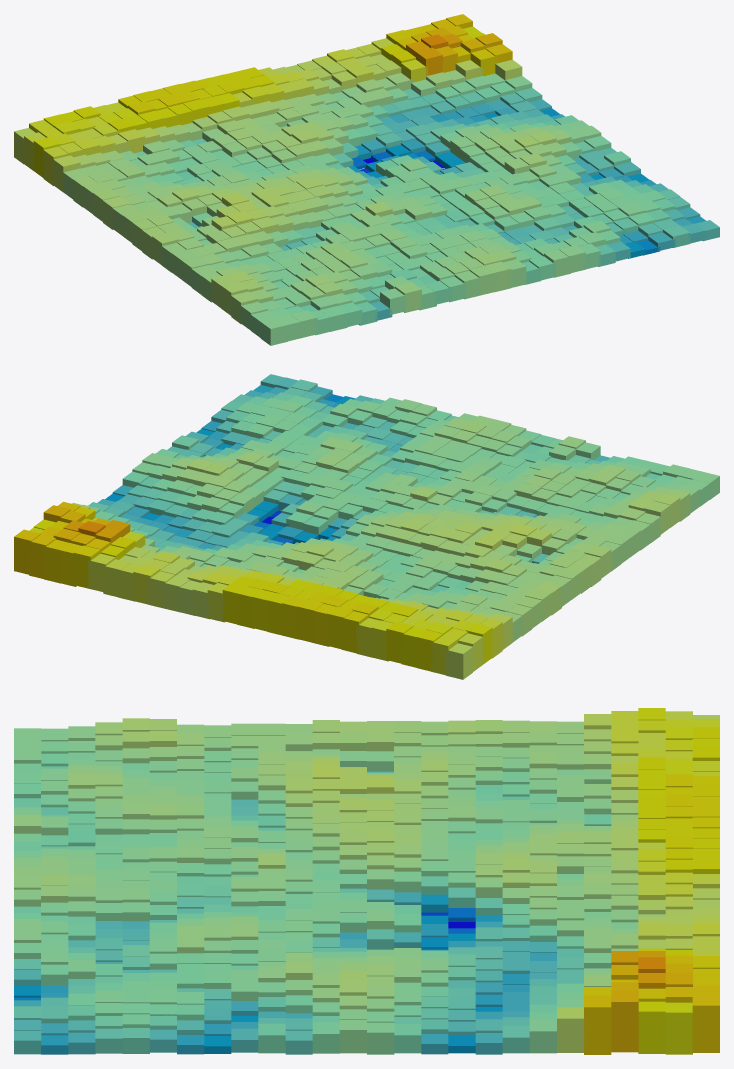
File: population.glb
3 renders of one model, top to bottom at view 1: azimuth 30°, elevation 25°; view 2: azimuth 150°, elevation 25°; view 3: azimuth 270°, elevation 25°, orthographic. The views are drawn at different scales.
Parts seen in each view (by area): view 1: population; view 2: population; view 3: population.
Boxes of the visible parts, x1=… form: population: x1=14, y1=14, x2=719, y2=345; population: x1=14, y1=374, x2=719, y2=679; population: x1=14, y1=708, x2=719, y2=1054.
Bounding box in the file's own units: 2616 × 231 × 2589.
